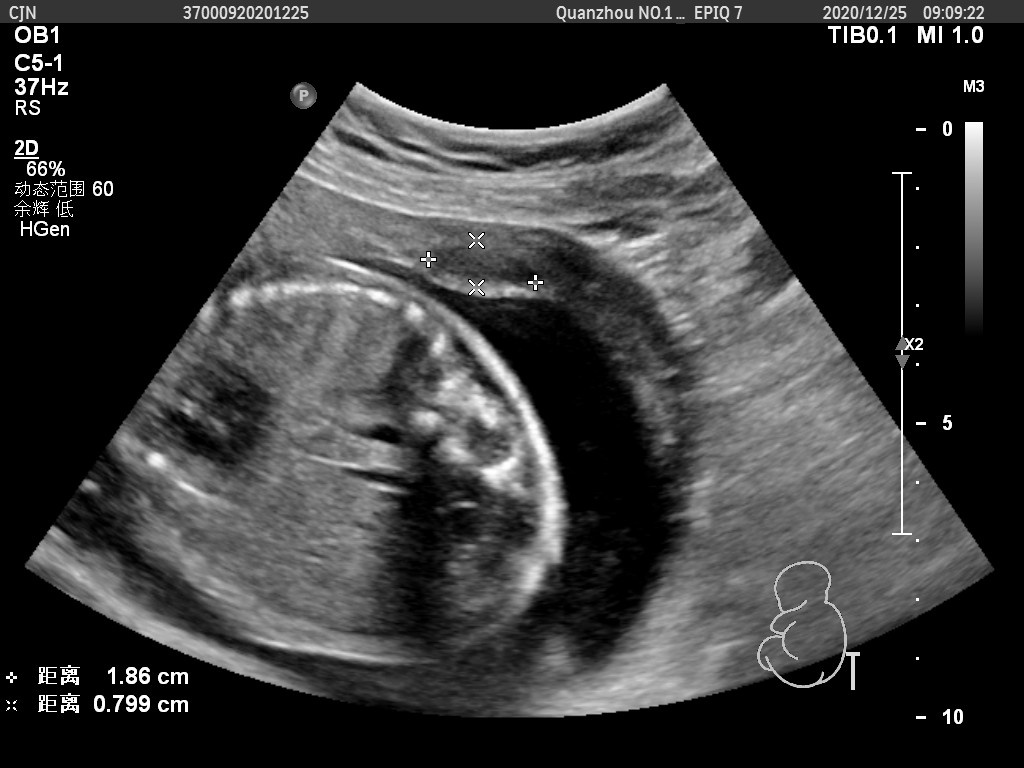肌瘤: (427, 240, 537, 289)
